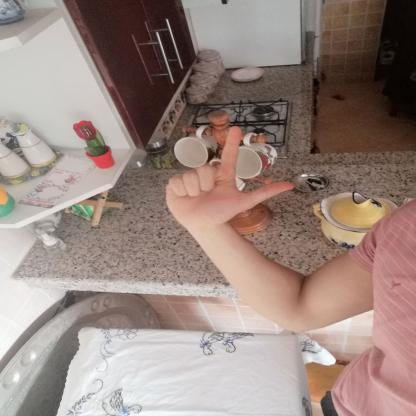LAAM: (157, 120, 301, 233)
